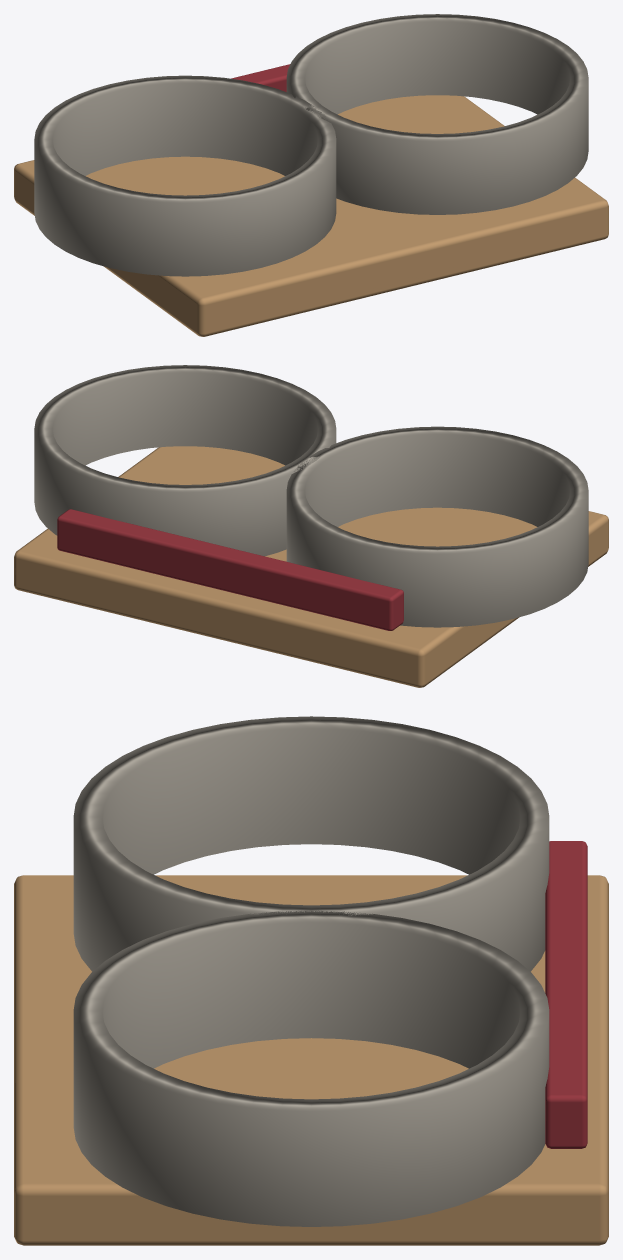
Rendered from pneumatic-tube-mail-exchange-pneumatic-tube-mail-excha-7cf439d6__32311.glb.
3 views of the same model, one above another, from view 1: azimuth 30°, elevation 25°; view 2: azimuth 150°, elevation 25°; view 3: azimuth 270°, elevation 25° (orthographic). The views are drawn at different scales.
Parts seen in each view (by area): view 1: pneumatic-tube-mail-exchange-open-carrier-packing-cradle; view 2: pneumatic-tube-mail-exchange-open-carrier-packing-cradle; view 3: pneumatic-tube-mail-exchange-open-carrier-packing-cradle.
Boxes of the visible parts, left/top/right/bottom form: pneumatic-tube-mail-exchange-open-carrier-packing-cradle: left=14, top=14, right=608, bottom=336; pneumatic-tube-mail-exchange-open-carrier-packing-cradle: left=14, top=365, right=608, bottom=687; pneumatic-tube-mail-exchange-open-carrier-packing-cradle: left=14, top=716, right=608, bottom=1245.
Bounding box in the file's own units: 0.55 × 0.115 × 0.35.
